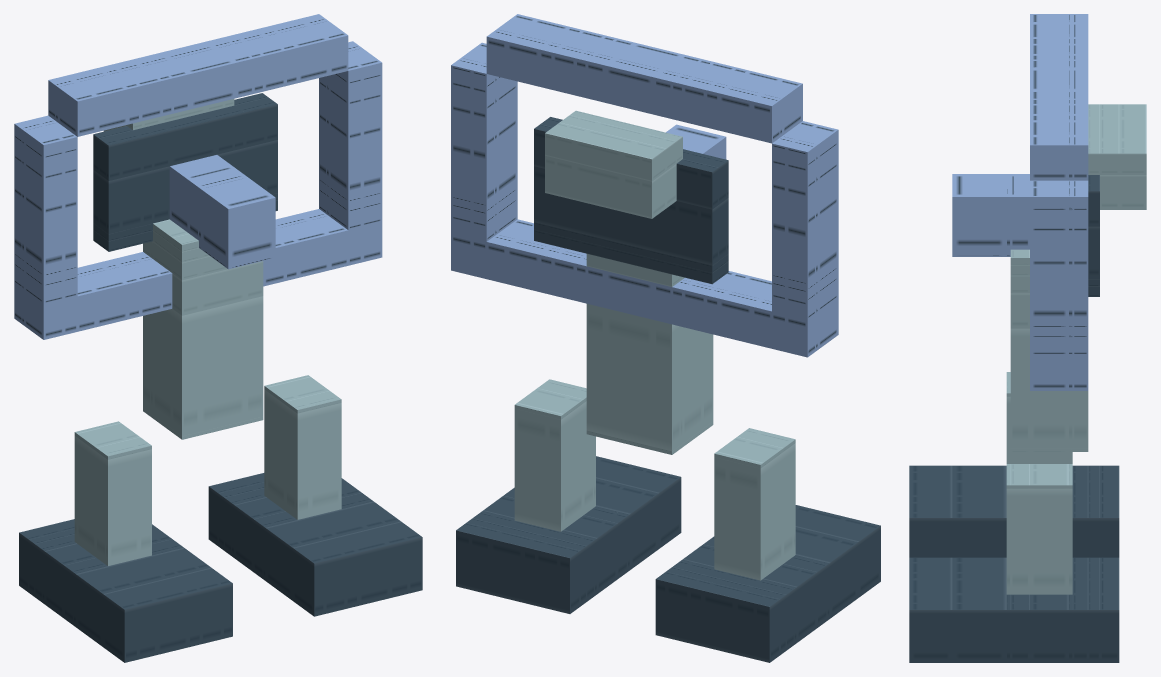
File: sc_lobby_robot_relay.obj
3 views of the same model, side by side, from view 1: azimuth 30°, elevation 25°; view 2: azimuth 150°, elevation 25°; view 3: azimuth 270°, elevation 25° (orthographic). The views are drawn at different scales.
Size of the model in its own units: 10 by 14.5 by 6.1.
Materials: 1 (1 with a texture image).
